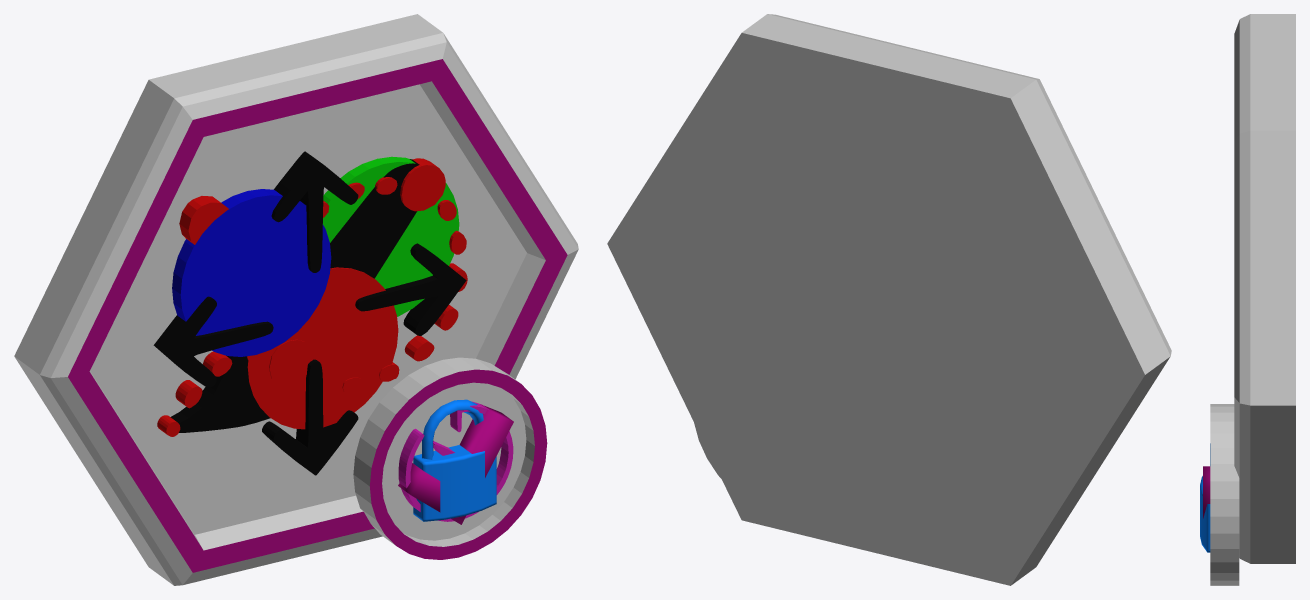
Rendered from kColor_locked.dae.
3 views of the same model, side by side, from view 1: azimuth 30°, elevation 25°; view 2: azimuth 150°, elevation 25°; view 3: azimuth 270°, elevation 25° (orthographic). The views are drawn at different scales.
Visible parts, largest first — view 1: node, kColor, Planar, Hamiltonian, Checkmark, Timed; view 2: node; view 3: node, Checkmark.
Boxes of the visible parts, <box> form: node: <box>14,14,578,585</box>; kColor: <box>172,156,459,429</box>; Planar: <box>153,151,466,475</box>; Hamiltonian: <box>157,158,467,436</box>; Checkmark: <box>398,404,513,524</box>; Timed: <box>398,401,513,521</box>; node: <box>607,14,1171,585</box>; node: <box>1200,14,1295,585</box>; Checkmark: <box>1203,466,1210,518</box>.
Size of the model in its own units: 2 by 0.3477 by 1.8.
